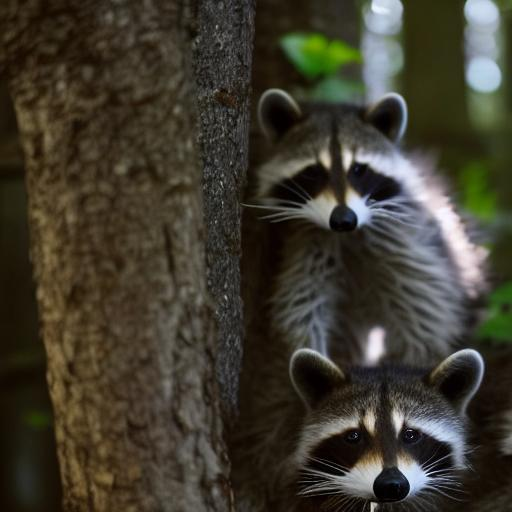raccoon: (247, 81, 495, 382), (249, 338, 512, 512)
